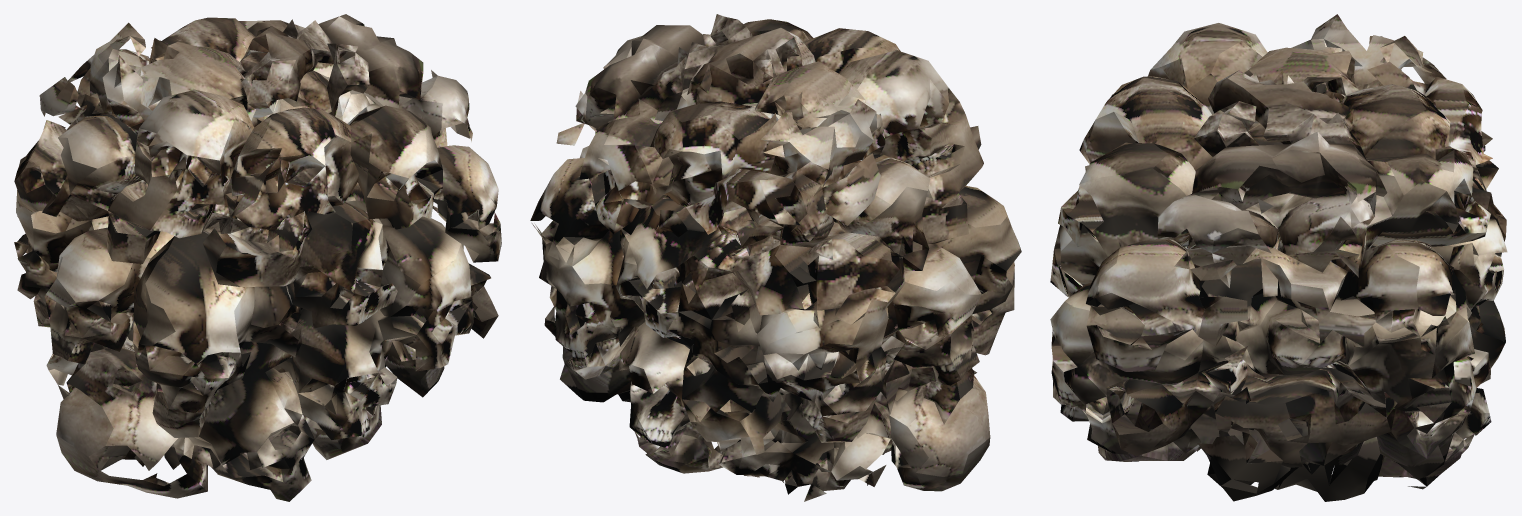
Rendered from skull_pile.glb.
3 views of the same model, side by side, from view 1: azimuth 30°, elevation 25°; view 2: azimuth 150°, elevation 25°; view 3: azimuth 270°, elevation 25° (orthographic). The views are drawn at different scales.
Visible parts, largest first — view 1: geometry_0; view 2: geometry_0; view 3: geometry_0.
Part boxes in pixels (x1,y1,x2,y2): geometry_0: (14, 14, 501, 501); geometry_0: (530, 14, 1021, 501); geometry_0: (1050, 14, 1507, 501).
Size of the model in its own units: 0.8118 by 0.8 by 0.7888.
Materials: 1 (1 with a texture image).
